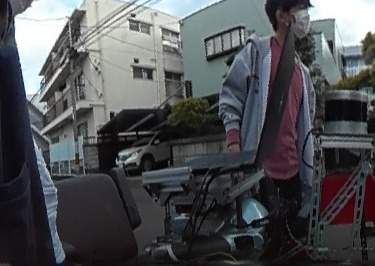person: (218, 0, 322, 266)
